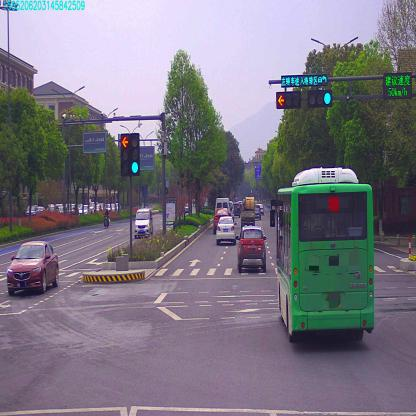traffic-light: (310, 84, 333, 109), (282, 74, 327, 84), (275, 91, 300, 109)
